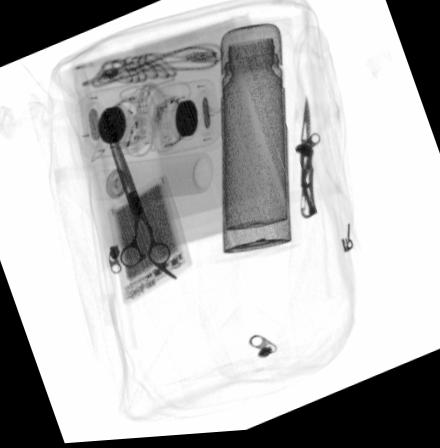Knife: (294, 101, 316, 228)
Powerbank: (102, 180, 191, 311)
Scissors: (97, 112, 179, 286)
Sprayer: (93, 156, 212, 204)
